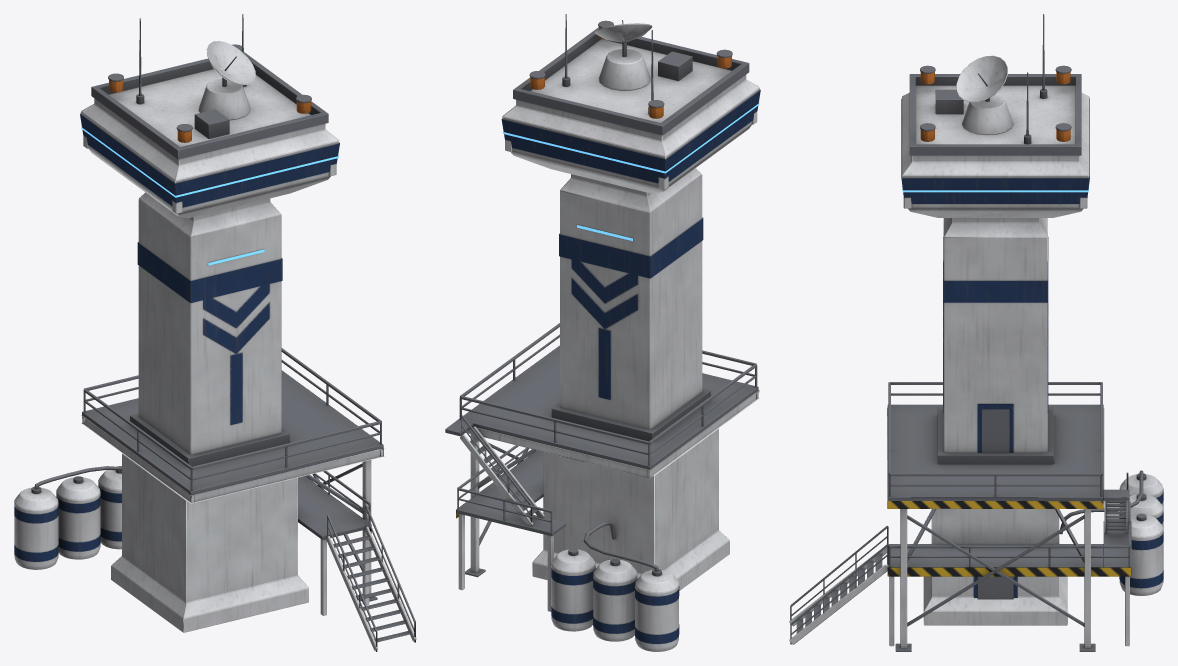
The model's file is 整備庫_36_管制塔.glb.
3 renders of one model, left to right at view 1: azimuth 30°, elevation 25°; view 2: azimuth 150°, elevation 25°; view 3: azimuth 270°, elevation 25°, orthographic.
Visible parts, largest first — view 1: Tower_Mesh; view 2: Tower_Mesh; view 3: Tower_Mesh.
Part boxes in pixels (box(x1,y1,x2,y2)): Tower_Mesh: box(14, 14, 416, 651); Tower_Mesh: box(445, 14, 760, 651); Tower_Mesh: box(789, 14, 1163, 651).
Bounding box in the file's own units: 13.64 × 30.9 × 18.73.
Materials: 2 (1 with a texture image).
